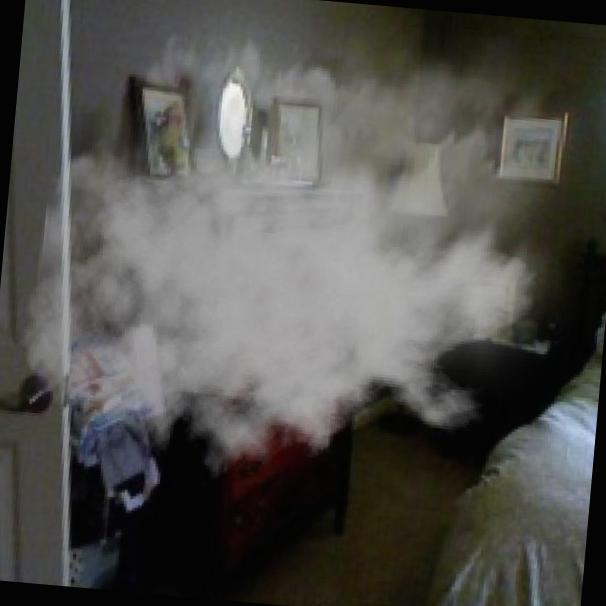smoke: (9, 0, 606, 526)
